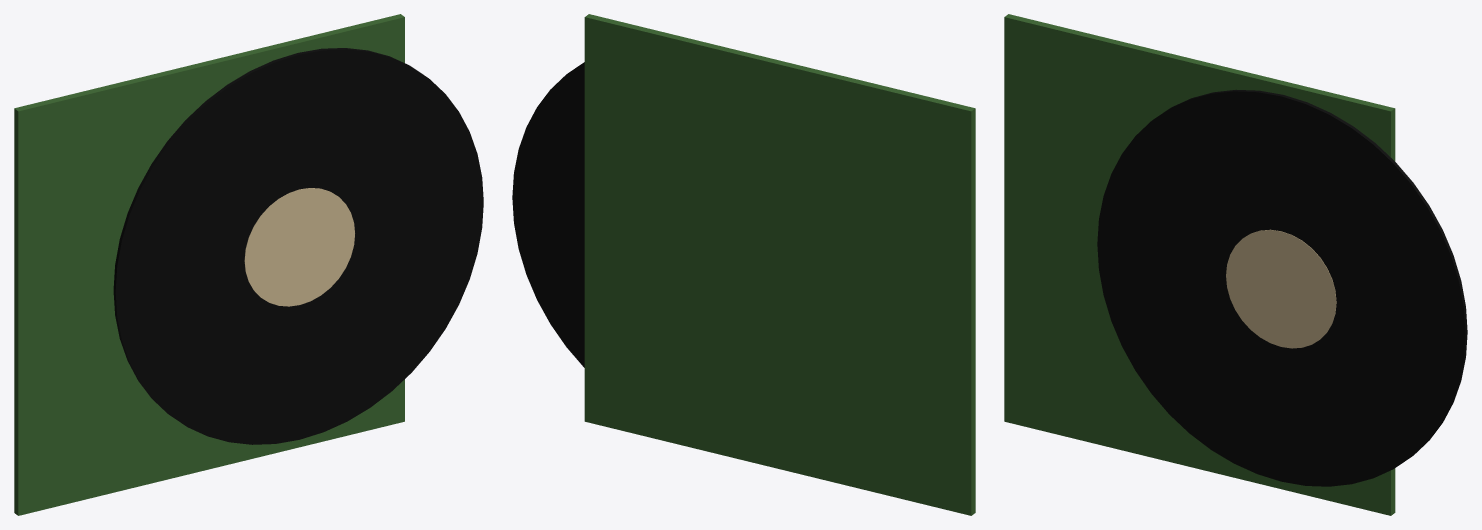
The model's file is record-2.glb.
The picture shows the model from 3 angles, left to right: view 1: azimuth 30°, elevation 25°; view 2: azimuth 150°, elevation 25°; view 3: azimuth 330°, elevation 25°; orthographic projection.
Bounding box in the file's own units: 0.3775 × 0.315 × 0.0093.
